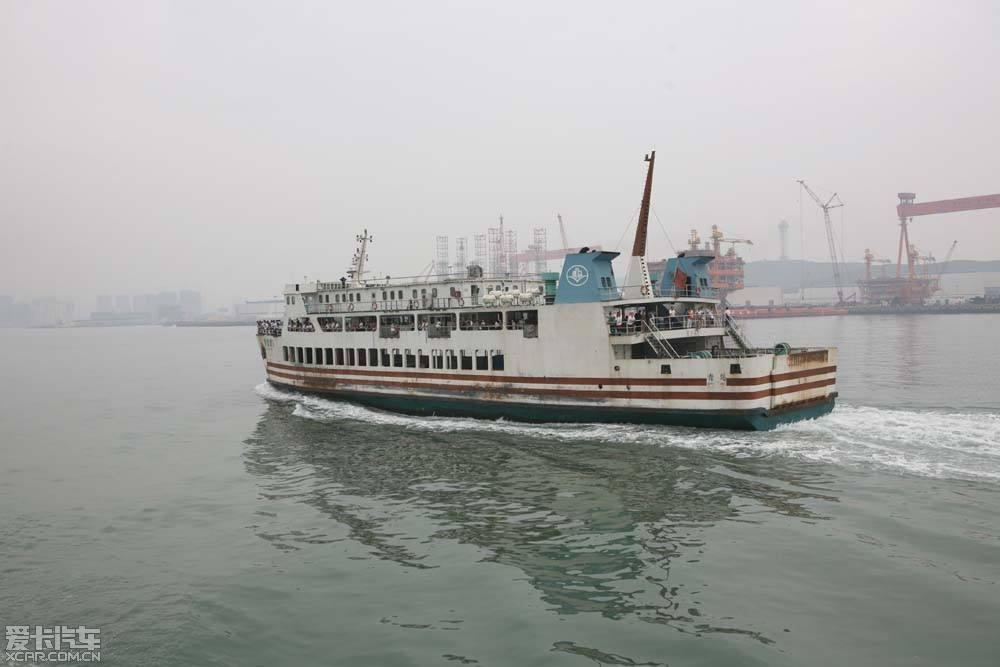otherboat: (245, 160, 846, 412)
